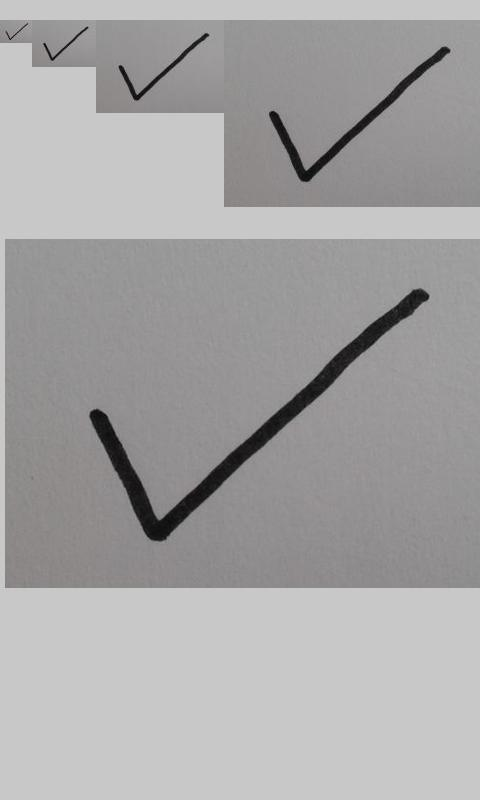check_box: (89, 289, 430, 544), (268, 46, 447, 182), (118, 33, 209, 101), (43, 26, 89, 61), (5, 23, 28, 40)
